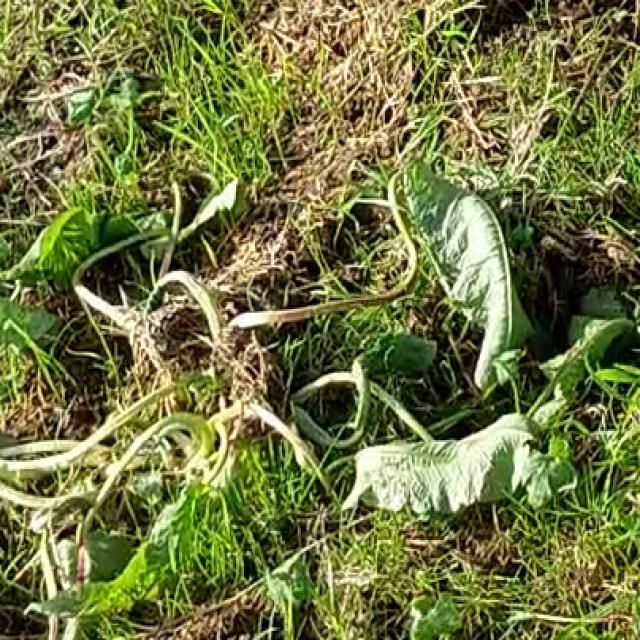organic waste: (11, 127, 593, 629)
